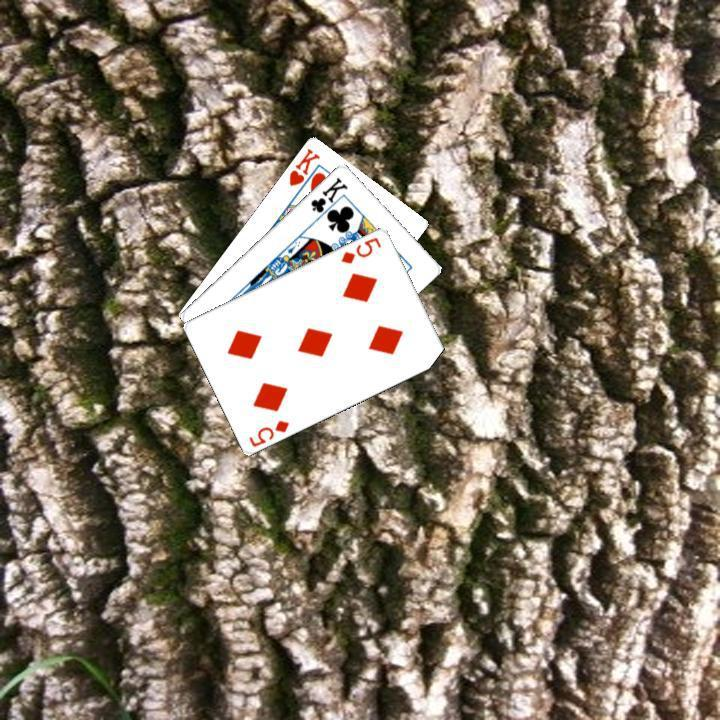5: (244, 415, 292, 449), (337, 232, 383, 265)
K: (306, 172, 350, 223), (284, 143, 322, 188)
